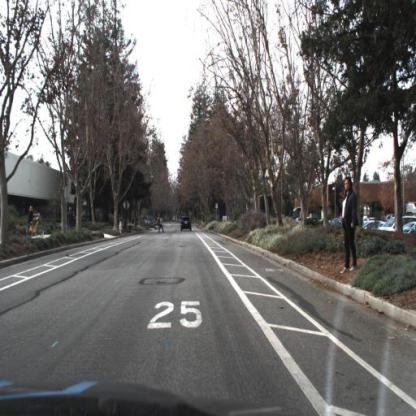biker: (28, 207, 44, 236)
car: (180, 213, 195, 234)
pedestrian: (341, 176, 359, 273), (22, 200, 46, 240), (159, 214, 166, 235)
